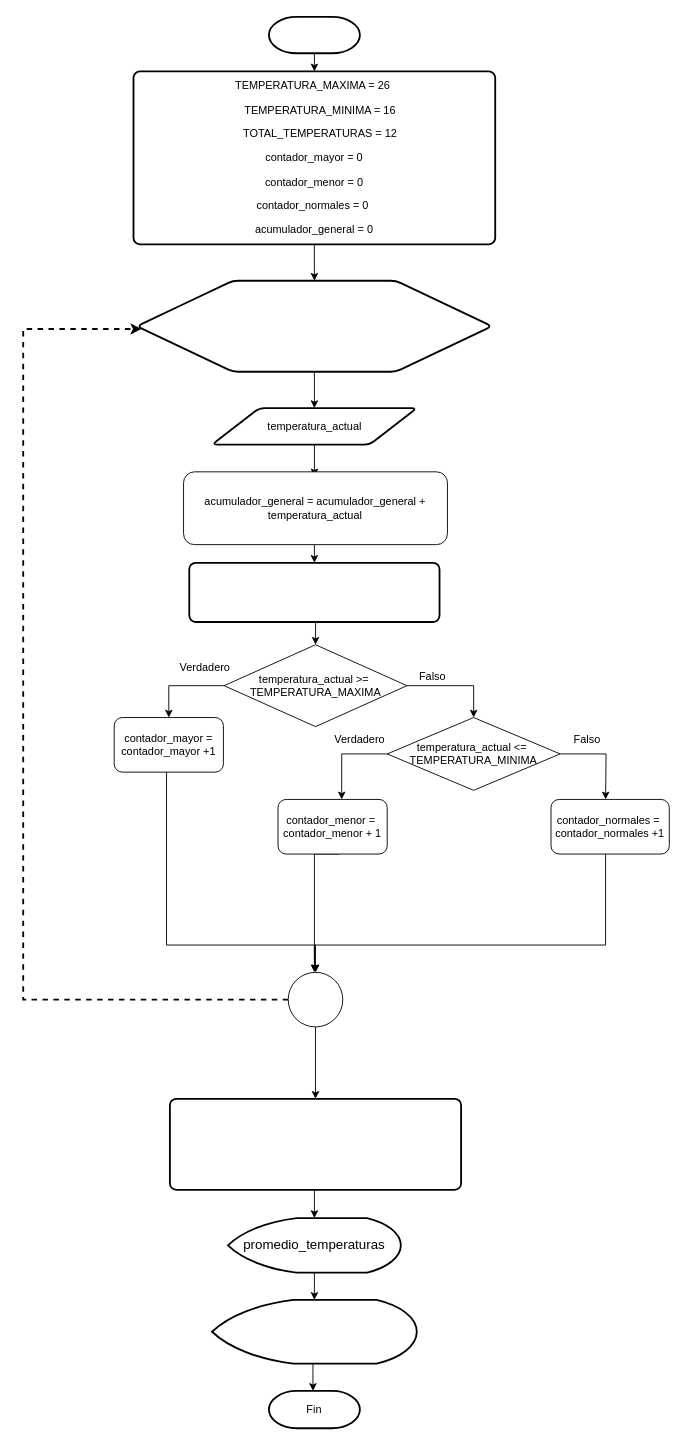
This 685x1444 diagram has some shape labels left out. Each missing label, with the centre of its shape:
Acumulador_temperaturas = Acumulador_temperaturas + temperatura_actual: [314,591]
contador_mayor contador menor contador_normales: [314,1331]
Inicio: [314,34]
Para (iterador = 0, iterador <= TOTAL_TEMPERATURAS, 1 ) Hacer: [314,325]
promedio_temperaturas = acumulador_general / TOTAL_TEMPERATURAS: [315,1143]
